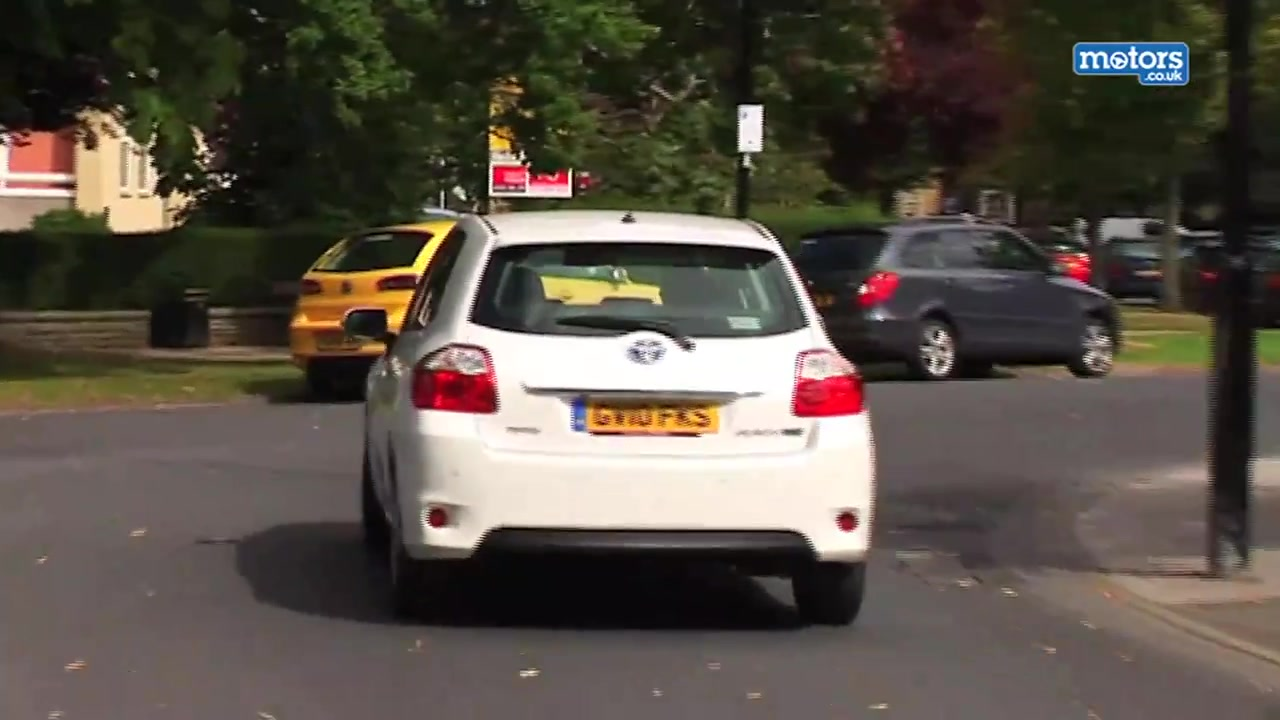car: (344, 207, 877, 630), (285, 210, 668, 382), (790, 211, 1131, 379), (1161, 237, 1280, 320), (1098, 229, 1182, 307), (1011, 221, 1103, 288)
